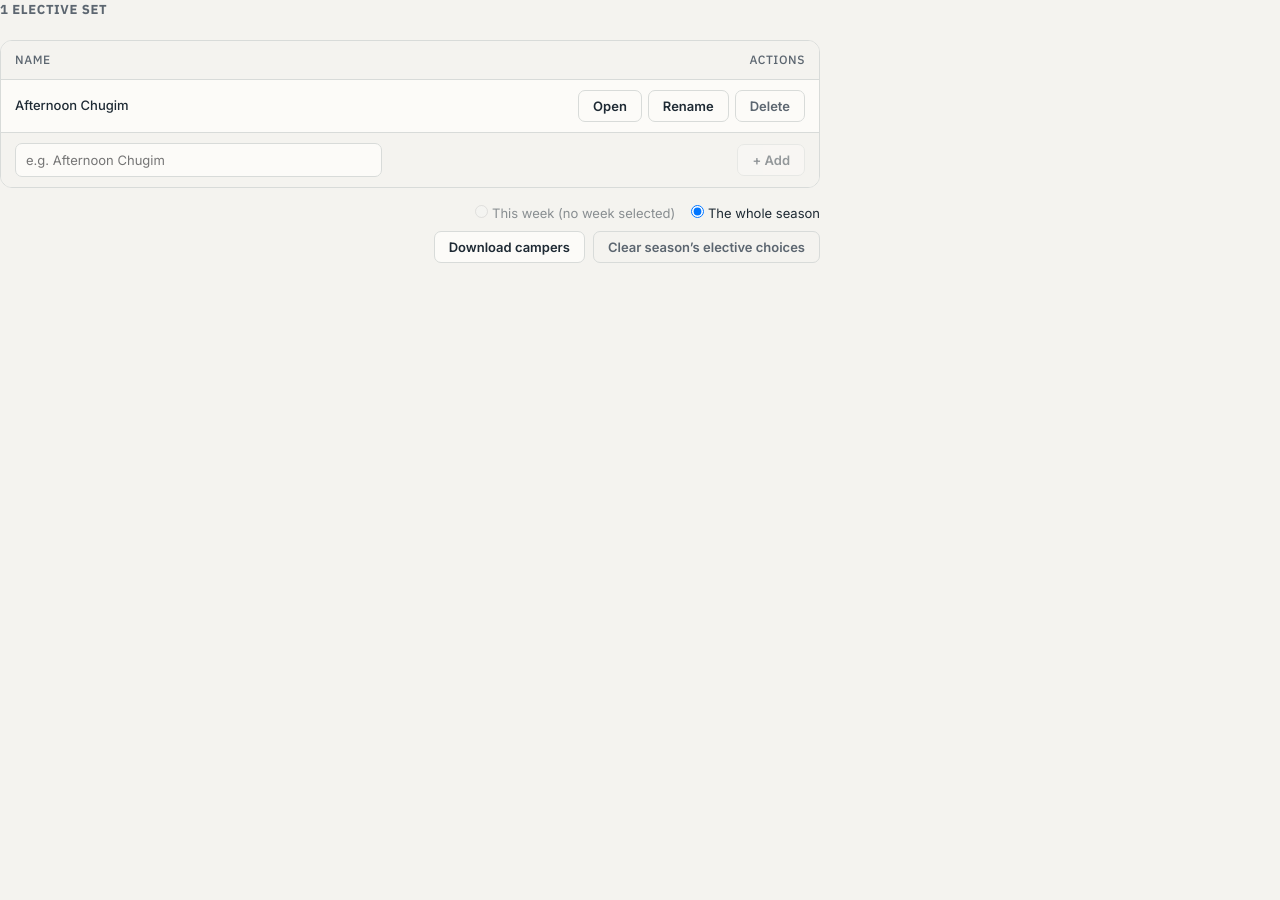
Test: ElectivesScreen › purge confirm copy discloses history retention, exported copies, and the sync-race reappearance
Expected: the text "Afternoon Chugim" is shown, [1,79,396,132]
Click the button "Clear season’s elective choices" at (706, 247), box [593,231,820,263]
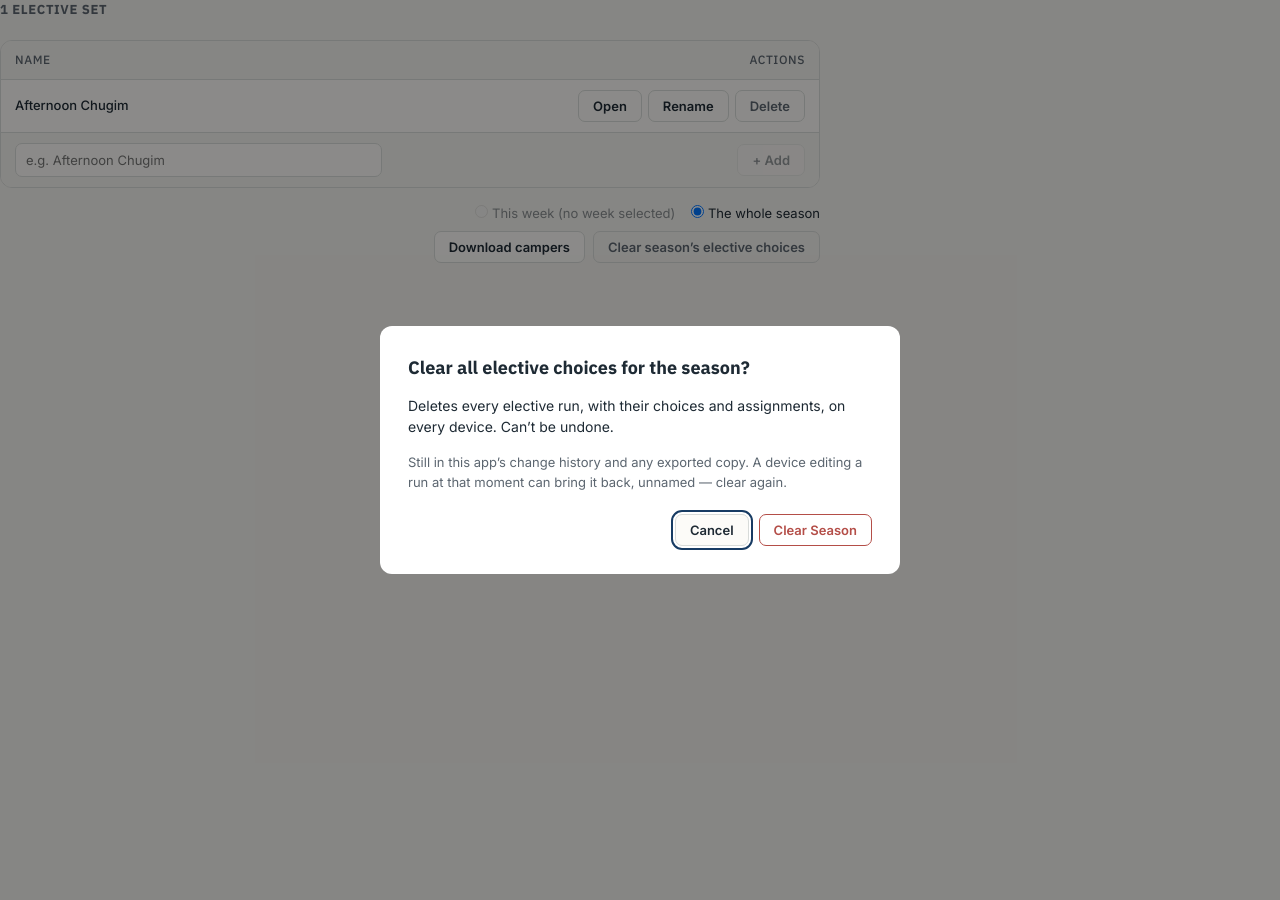
Now the text "Can.t be undone" is shown, box [408,397,845,435]
Now the text "can bring it back, unnamed — clear again" is shown, box [408,454,862,490]
